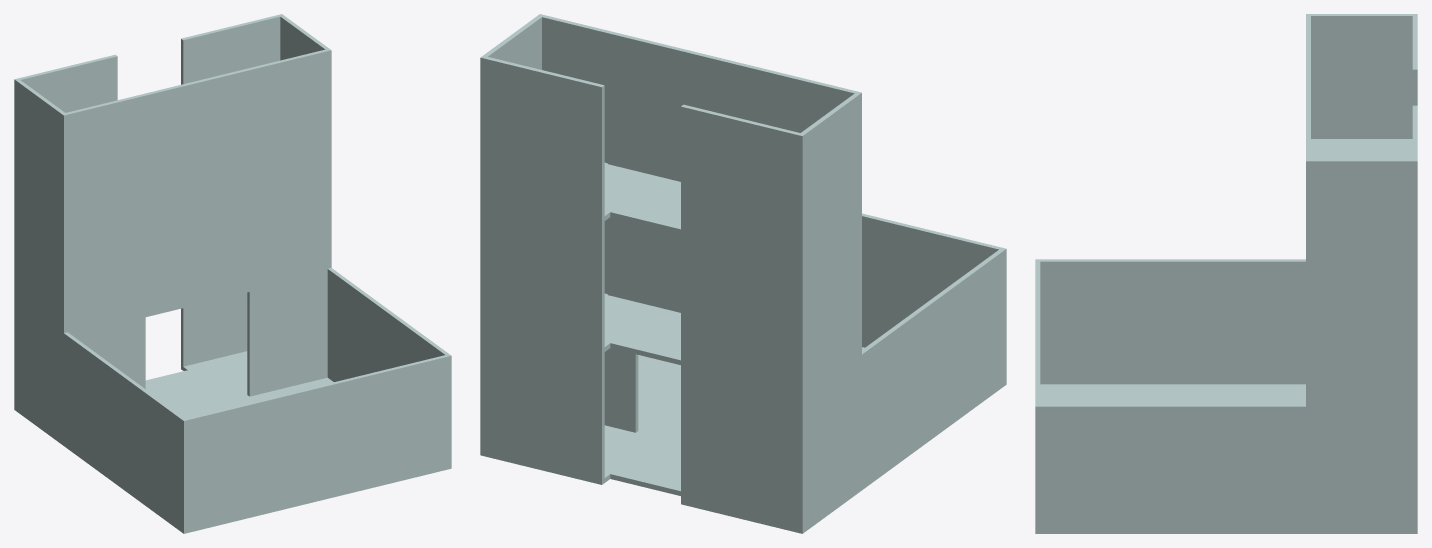
Rendered from building.dae.
The picture shows the model from 3 angles, left to right: view 1: azimuth 30°, elevation 25°; view 2: azimuth 150°, elevation 25°; view 3: azimuth 270°, elevation 25°; orthographic projection. The views are drawn at different scales.
Visible parts, largest first — view 1: ID2; view 2: ID2; view 3: ID2.
Boxes of the visible parts, x1=… form: ID2: x1=14, y1=14, x2=451, y2=533; ID2: x1=480, y1=14, x2=1006, y2=533; ID2: x1=1035, y1=14, x2=1417, y2=533.
Bounding box in the file's own units: 10.3 × 11.3 × 12.15.
